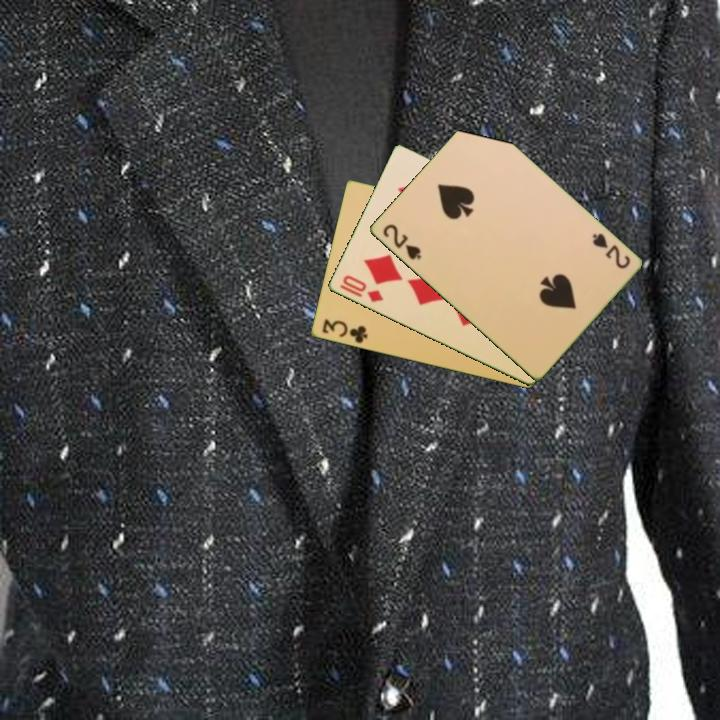10d: (338, 272, 386, 305)
2s: (588, 229, 633, 272), (379, 221, 424, 263)
3c: (318, 316, 370, 347)
